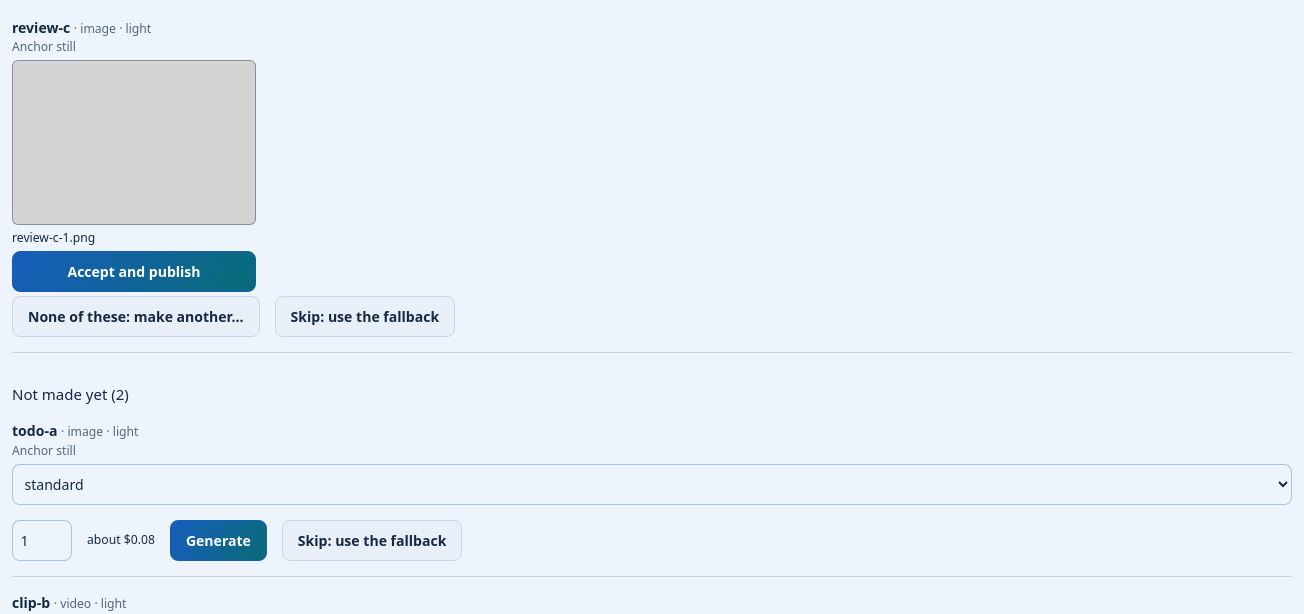
Test: opens with the money at a glance: spent so far, what is left to make at the chosen tiers, and what waits for review
This screenshot has width=1304, height=614.
(page scrolled)
Select "premium" in the dropdown named "todo-a tier" at (652, 484), box [12,464,1292,505]
(page scrolled)
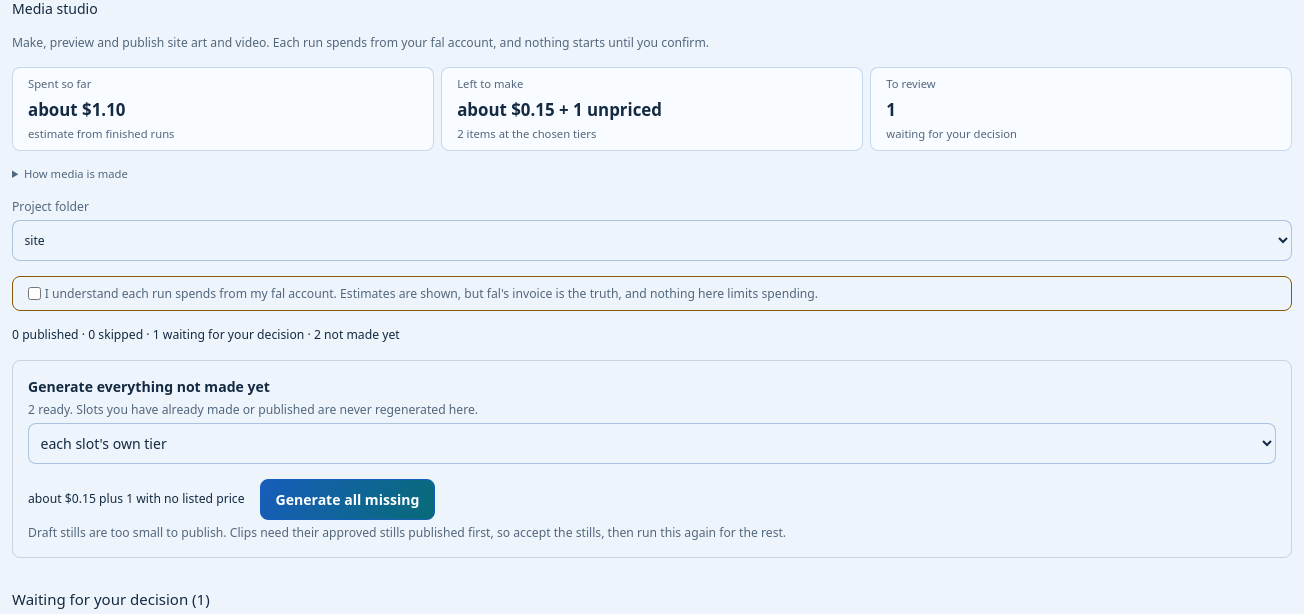
Check: the text "nothing starts until you confirm" is shown, box [12,34,709,51]
Check: the element with test id "cost-strip" shows "about $0.15 + 1 unpriced", box [457,98,662,120]
